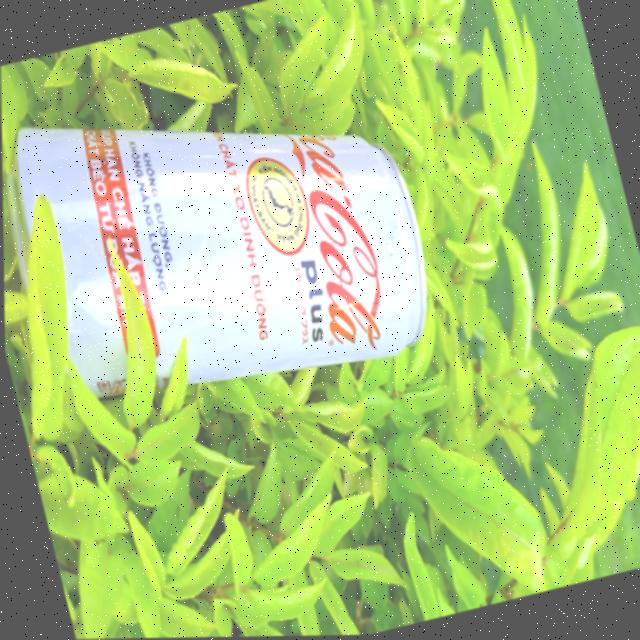Coca Cola Plus: (1, 51, 444, 445)
